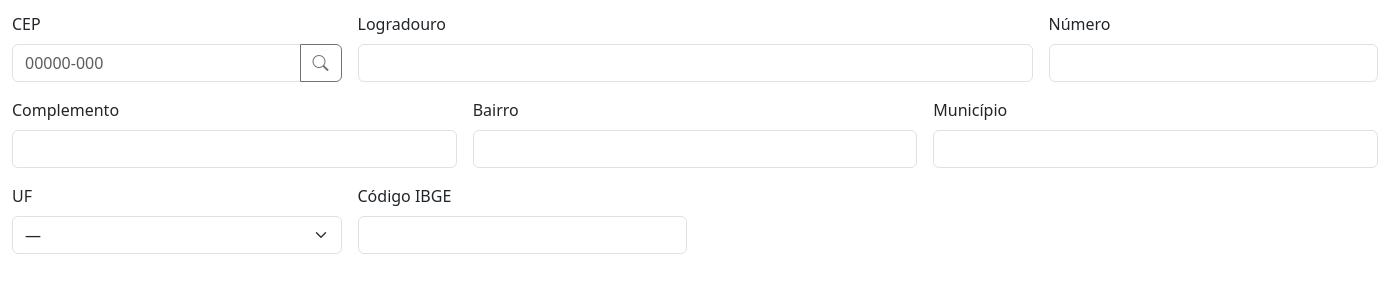
Test: EnderecoComponent (busca de CEP) › preenche logradouro, bairro, município e UF ao digitar 8 dígitos
The image size is (1390, 296).
Type "01310-100" into the field with id "cfg-cep" at (156, 63), box [12,44,300,82]
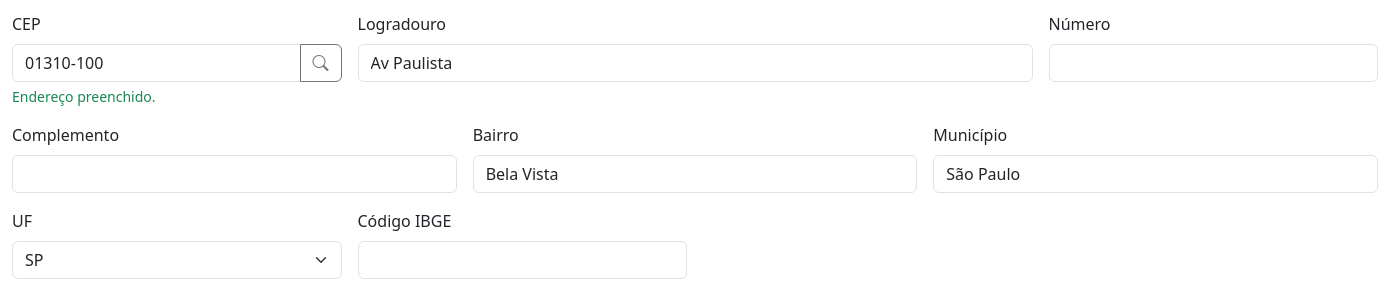
Check: the text "Endereço preenchido." is shown, box [12,87,156,106]
